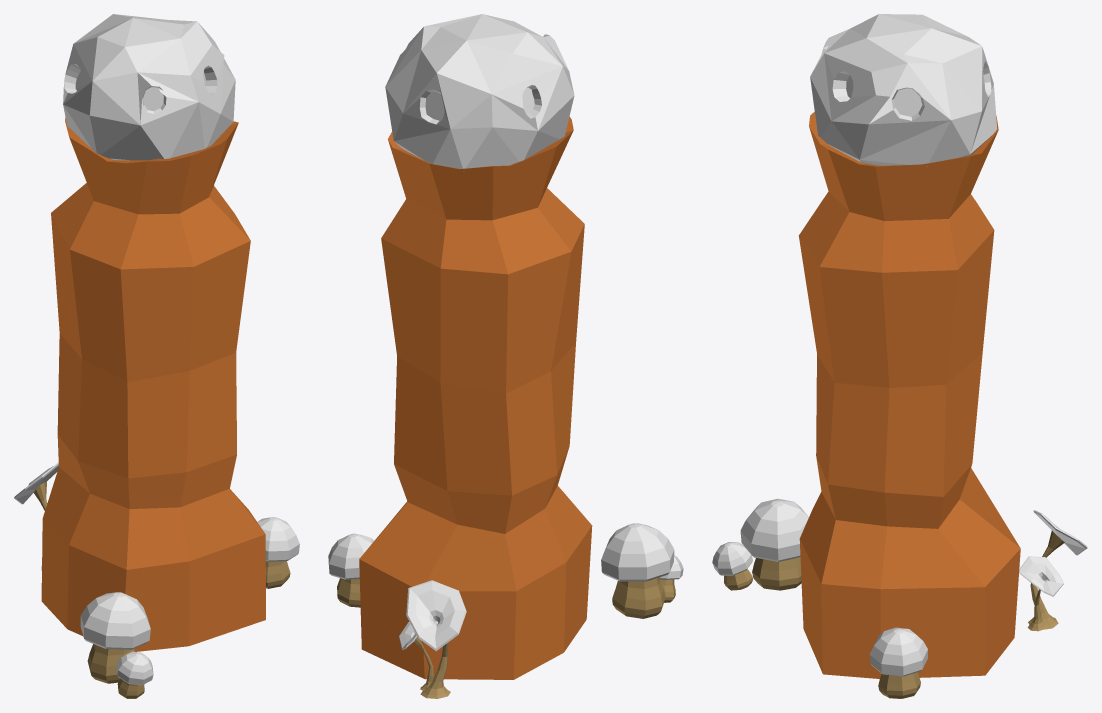
File: smallTurretWATER.fbx
The picture shows the model from 3 angles, left to right: view 1: azimuth 30°, elevation 25°; view 2: azimuth 150°, elevation 25°; view 3: azimuth 270°, elevation 25°; orthographic projection. The views are drawn at different scales.
Parts seen in each view (by area): view 1: Cube, Icosphere, mushroomsHEAD.005, mushroomsHEAD.003, mushroomLEG.005, mushroomsHEAD.006, MshroomsRED.001, mushroomLEG.003; view 2: Cube, Icosphere, MshroomsRED.001, mushroomsHEAD.005, mushroomLEG.005, mushroomsHEAD.003, mushroomLEG.003, MushroomsRED.002; view 3: Cube, Icosphere, mushroomsHEAD.005, mushroomsHEAD.003, MushroomsRED.002, mushroomLEG.005, MshroomsRED.001, mushroomsHEAD.006, mushroomLEG.003.
Part boxes in pixels (bbox=[...]): Cube: bbox=[41, 117, 265, 651]; Icosphere: bbox=[63, 14, 235, 160]; mushroomsHEAD.005: bbox=[80, 592, 150, 649]; mushroomsHEAD.003: bbox=[257, 517, 299, 561]; mushroomLEG.005: bbox=[87, 644, 135, 683]; mushroomsHEAD.006: bbox=[116, 651, 153, 685]; MshroomsRED.001: bbox=[14, 462, 58, 570]; mushroomLEG.003: bbox=[265, 561, 290, 588]; Cube: bbox=[359, 116, 592, 679]; Icosphere: bbox=[385, 14, 574, 171]; MshroomsRED.001: bbox=[406, 580, 466, 698]; mushroomsHEAD.005: bbox=[601, 523, 674, 581]; mushroomLEG.005: bbox=[612, 577, 665, 618]; mushroomsHEAD.003: bbox=[328, 533, 374, 579]; mushroomLEG.003: bbox=[337, 578, 360, 607]; MushroomsRED.002: bbox=[399, 622, 433, 690]; Cube: bbox=[798, 112, 1020, 678]; Icosphere: bbox=[810, 14, 997, 166]; mushroomsHEAD.005: bbox=[740, 498, 808, 561]; mushroomsHEAD.003: bbox=[869, 627, 927, 676]; MushroomsRED.002: bbox=[1019, 556, 1063, 631]; mushroomLEG.005: bbox=[752, 557, 801, 590]; MshroomsRED.001: bbox=[1028, 510, 1087, 629]; mushroomsHEAD.006: bbox=[712, 542, 752, 575]; mushroomLEG.003: bbox=[878, 672, 920, 698].
Bounding box in the file's own units: 165 × 343 × 191.
